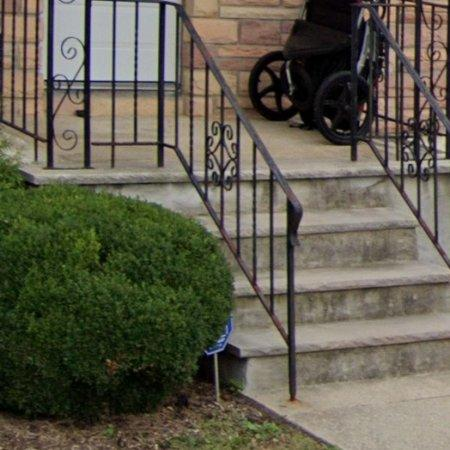stairs: (291, 172, 450, 386), (142, 167, 287, 391)
